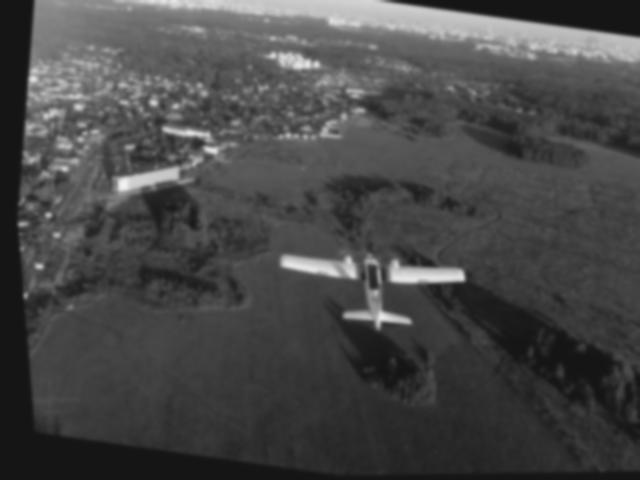hedef: (262, 234, 467, 350)
